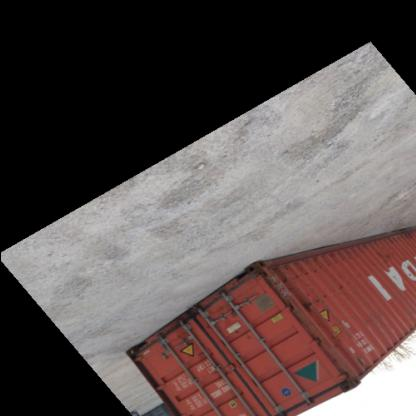Damage: (302, 284, 350, 312), (282, 258, 332, 284), (379, 247, 394, 288), (351, 350, 371, 372), (217, 303, 240, 321), (204, 364, 224, 384), (237, 330, 255, 348)
